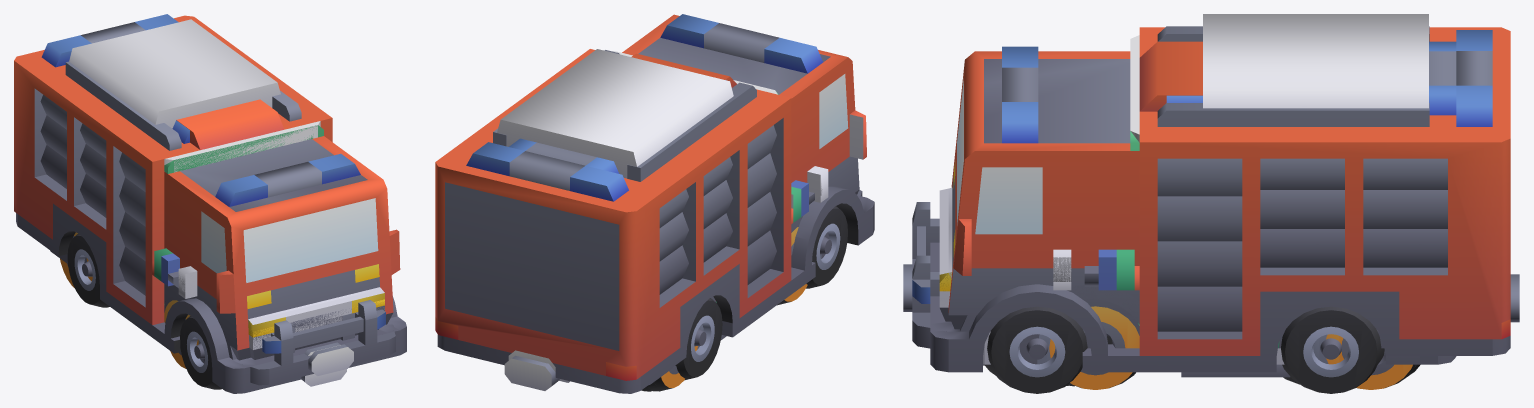
File: vehicles.glb
The picture shows the model from 3 angles, left to right: view 1: azimuth 30°, elevation 25°; view 2: azimuth 150°, elevation 25°; view 3: azimuth 270°, elevation 25°; orthographic projection. The views are drawn at different scales.
Parts seen in each view (by area): view 1: body (×3), door, wheel-front-right; view 2: body (×3), door, wheel-front-right; view 3: body (×4), wheel-front-right (×2), door, wheel-back-right, wheel-back-left.
Boxes of the visible parts, bbox=[...] form: body (×3): bbox=[14, 14, 406, 393]; door: bbox=[164, 125, 388, 390]; wheel-front-right: bbox=[50, 250, 179, 286]; body (×3): bbox=[435, 14, 874, 393]; door: bbox=[508, 92, 822, 371]; wheel-front-right: bbox=[559, 180, 808, 385]; body (×4): bbox=[903, 14, 1519, 393]; wheel-front-right (×2): bbox=[1020, 249, 1456, 386]; door: bbox=[939, 131, 1139, 372]; wheel-back-right: bbox=[1019, 285, 1419, 364]; wheel-back-left: bbox=[983, 266, 1384, 385].
Size of the model in its own units: 1.5 by 1.8 by 3.4.
1 material, 1 textured.
